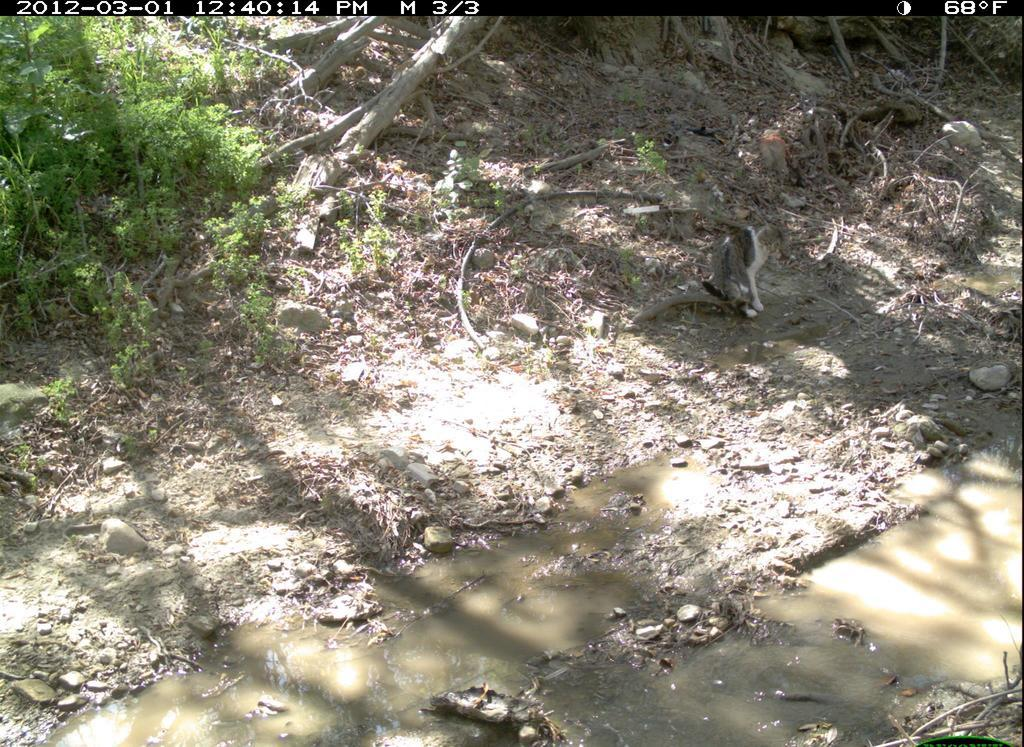cat: (680, 205, 811, 338)
